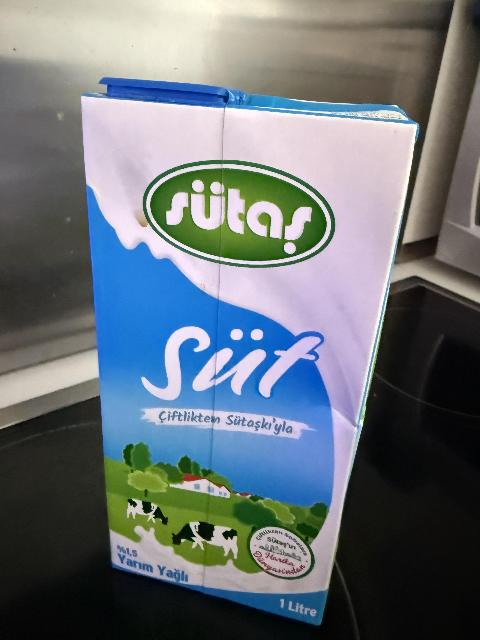Kagit: (97, 71, 408, 640)
Plastik: (103, 71, 233, 108)
